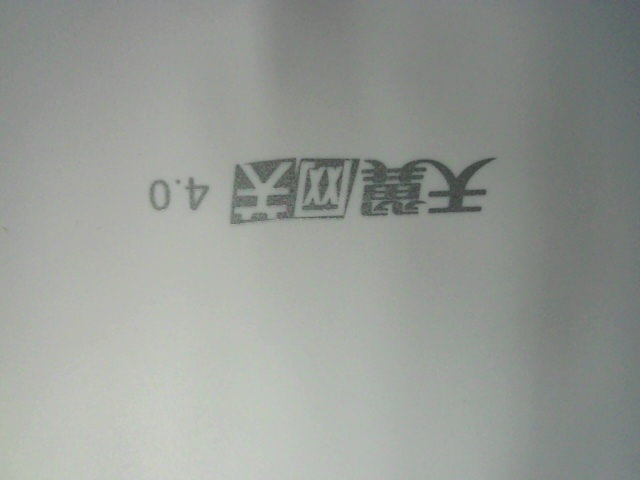BM_TianYiWangGuan: (143, 146, 495, 224)
